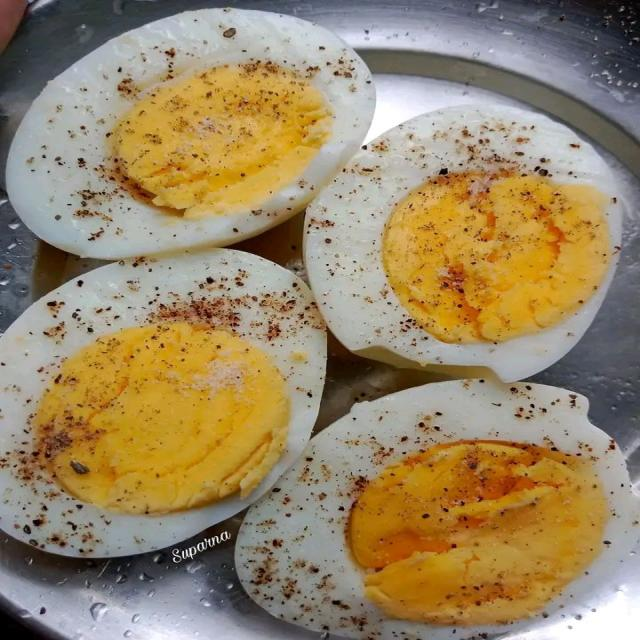eggs: (37, 28, 611, 640)
